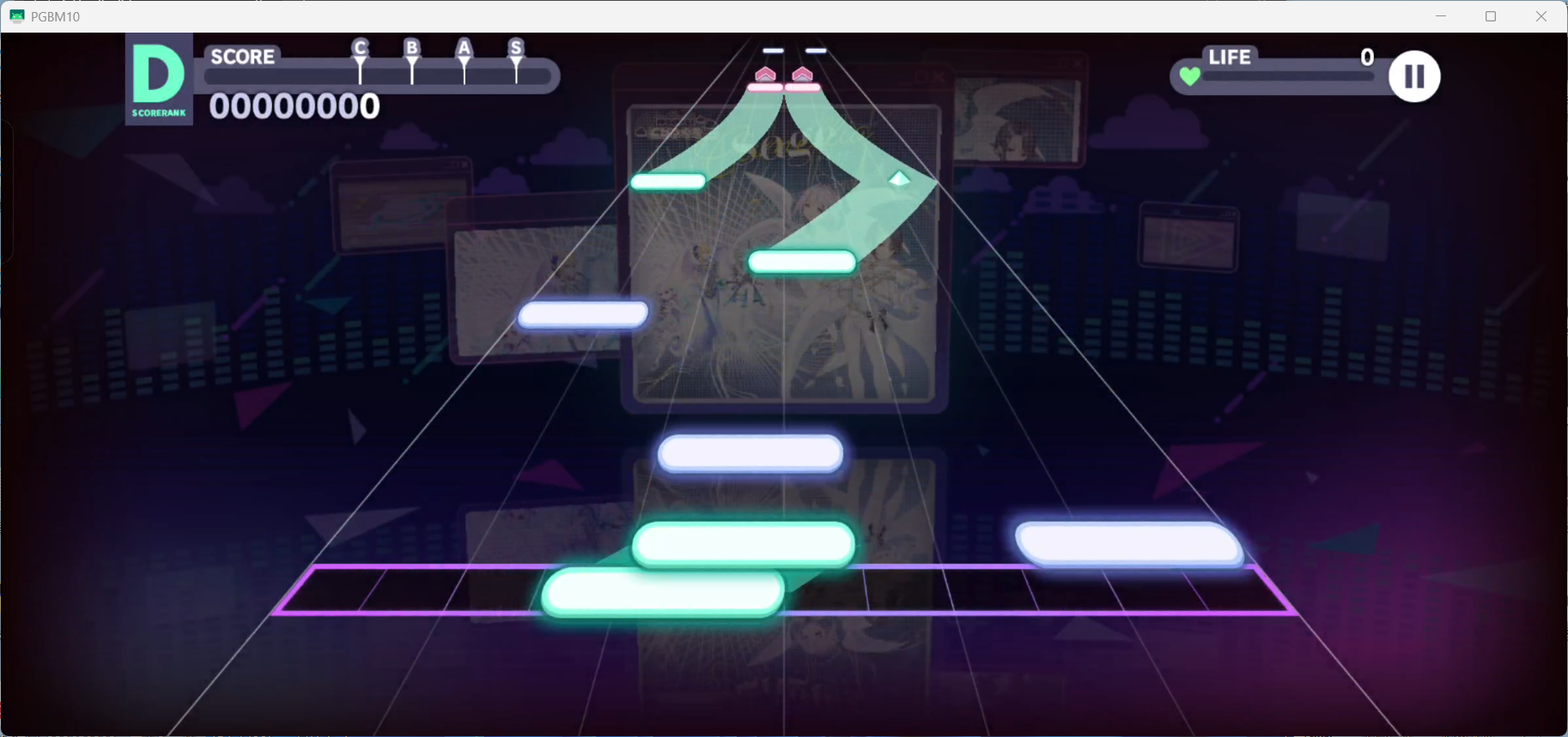flick: (792, 66, 812, 82), (756, 66, 775, 82)
hold: (769, 91, 936, 249), (648, 91, 784, 172)
sweep: (889, 170, 910, 193)
tap: (542, 566, 786, 619), (1014, 521, 1245, 567), (633, 523, 855, 569), (656, 435, 842, 473), (519, 300, 647, 329), (748, 250, 857, 273), (631, 173, 710, 196), (747, 82, 783, 92), (786, 83, 821, 92), (805, 48, 827, 53), (763, 48, 784, 53)
